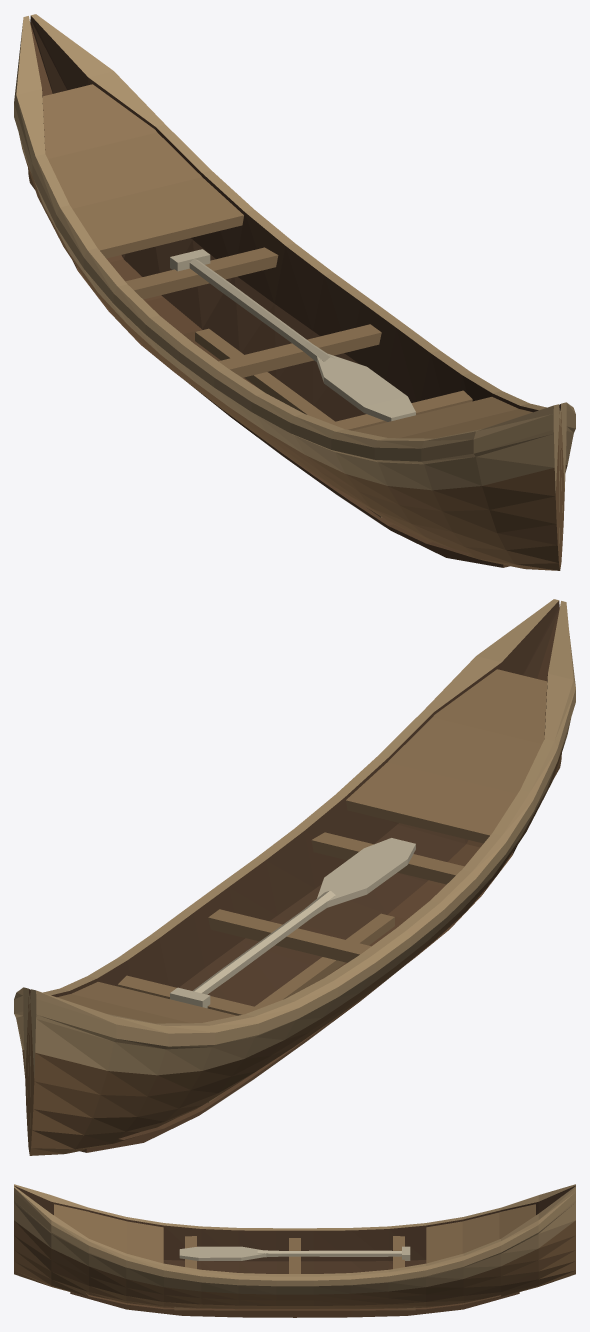
The model's file is canoe_b.glb.
The picture shows the model from 3 angles, top to bottom: view 1: azimuth 30°, elevation 25°; view 2: azimuth 150°, elevation 25°; view 3: azimuth 270°, elevation 25°; orthographic projection. The views are drawn at different scales.
Parts seen in each view (by area): view 1: hull, paddle-mesh; view 2: hull, paddle-mesh; view 3: hull, paddle-mesh.
Boxes of the visible parts, <box> form: hull: <box>14,14,575,570</box>; paddle-mesh: <box>170,249,415,421</box>; hull: <box>14,599,575,1155</box>; paddle-mesh: <box>170,838,415,1008</box>; hull: <box>14,1184,575,1317</box>; paddle-mesh: <box>179,1246,410,1260</box>.
Bounding box in the file's own units: 0.8981 × 1.06 × 4.2.
